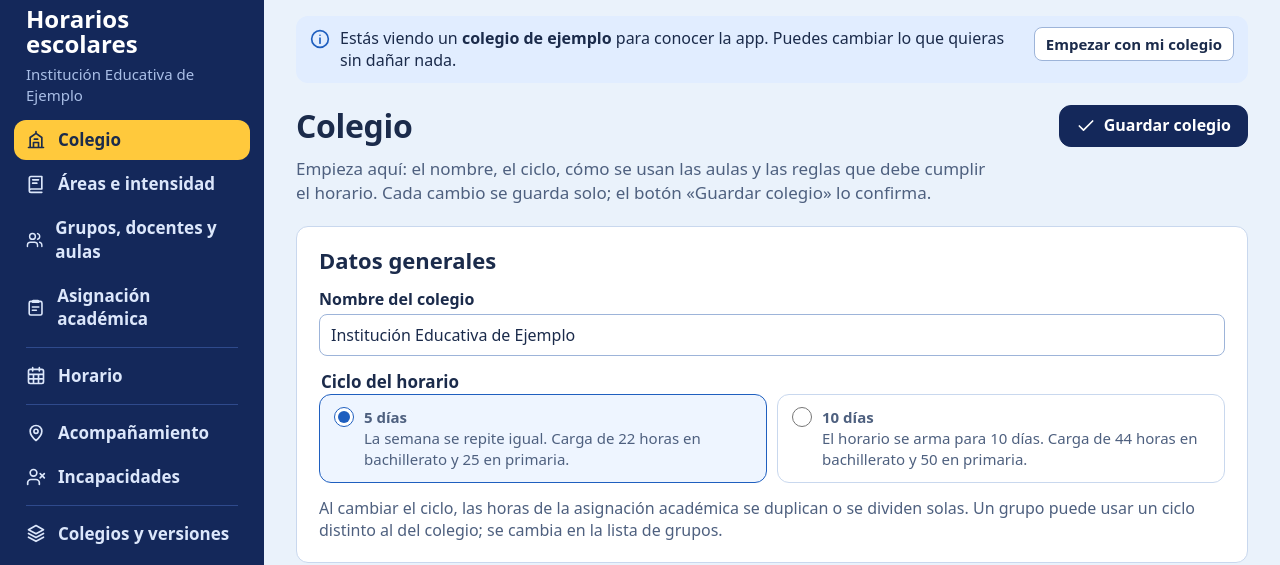
pantalla de horario › genera el horario del colegio de ejemplo sin cruces
Click the button "Horario": (132, 376) [14,356,250,396]
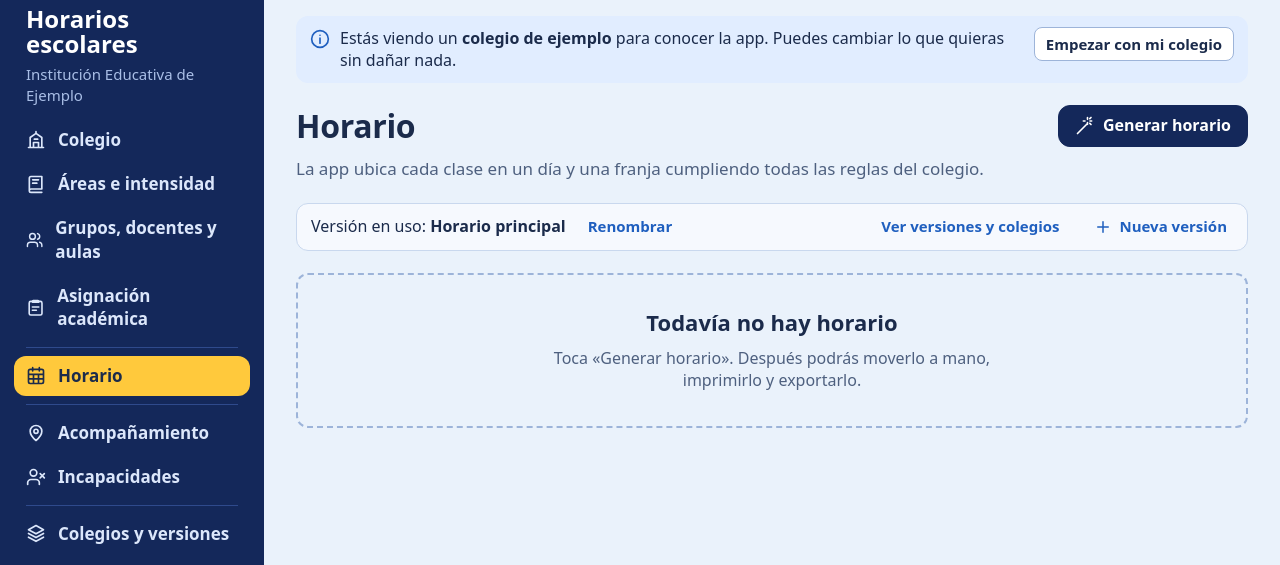
Click the button "Generar horario": (1153, 126) [1058,105,1248,147]
(page scrolled)
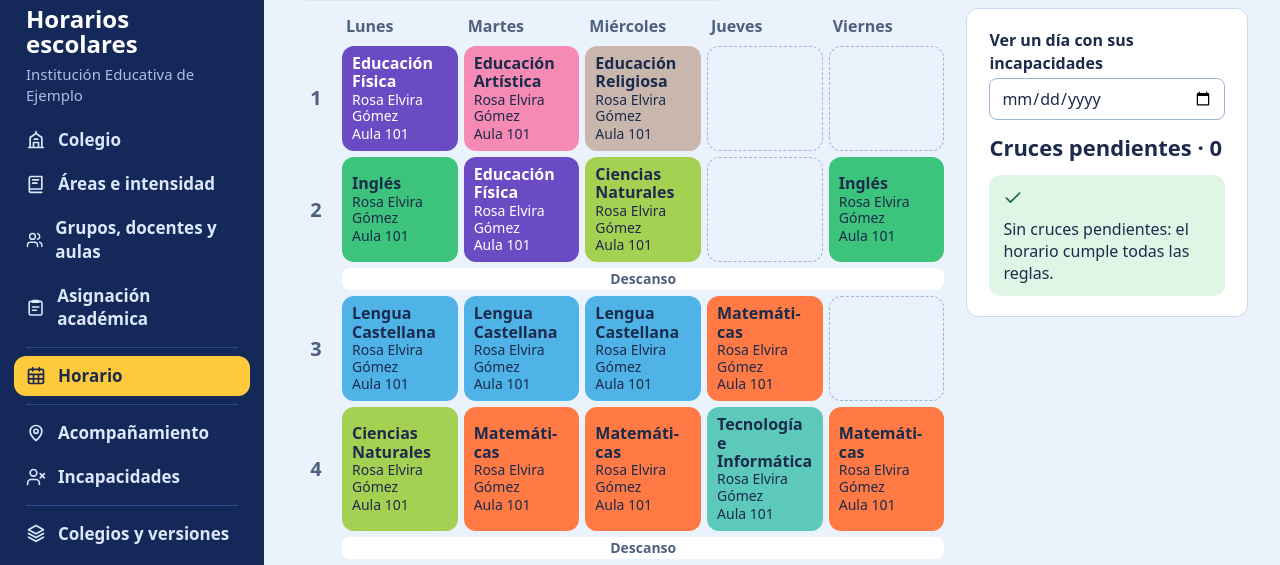
Now the text "Sin cruces pendientes: el horario cumple todas las reglas." is shown, box [1003,217,1211,284]
Now the 1st button "Matemáticas Rosa Elvira Gómez Aula 101" is shown, box [707,296,823,401]
